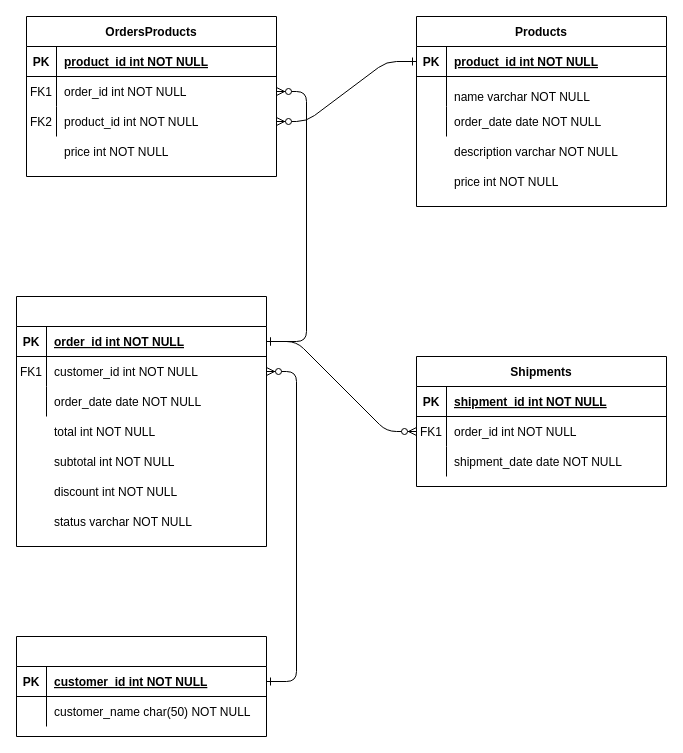
Image size: 683x753. Some labels were removed from this diagram. Each missing label, with the box of its shape:
Customers: (16, 636, 266, 736)
Orders: (16, 296, 266, 546)
